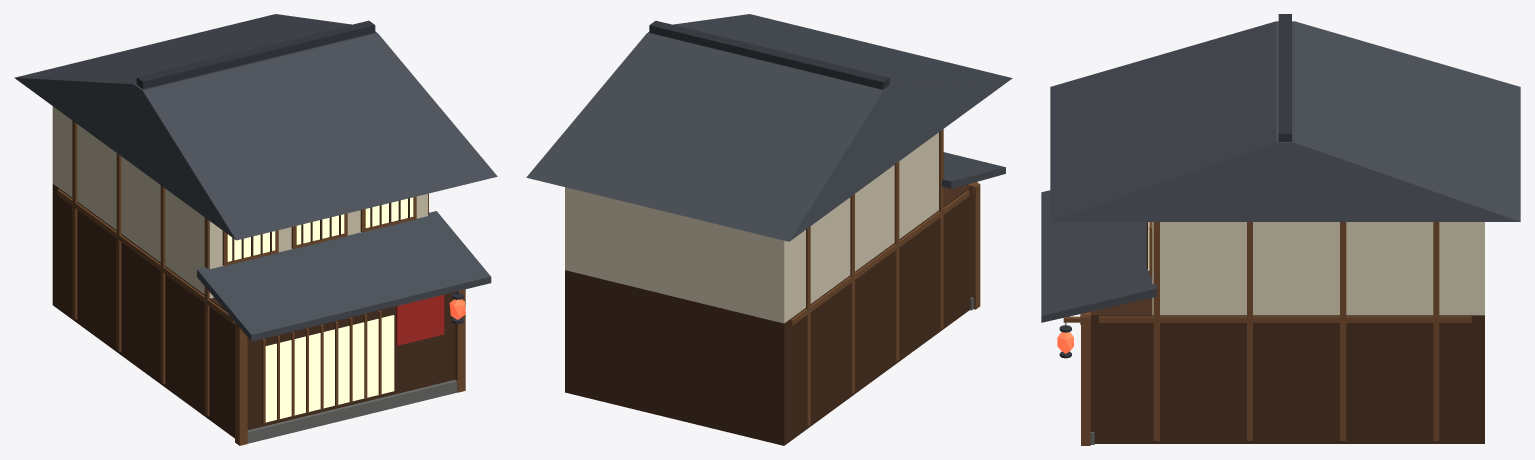
Rendered from machiya_2.glb.
3 renders of one model, left to right at view 1: azimuth 30°, elevation 25°; view 2: azimuth 150°, elevation 25°; view 3: azimuth 270°, elevation 25°, orthographic. The views are drawn at different scales.
Parts seen in each view (by area): view 1: machiya_2; view 2: machiya_2; view 3: machiya_2.
Boxes of the visible parts, left/top/right/bottom form: machiya_2: left=14, top=14, right=497, bottom=445; machiya_2: left=526, top=14, right=1012, bottom=445; machiya_2: left=1041, top=14, right=1520, bottom=445.
Bounding box in the file's own units: 7.2 × 7.8 × 10.8.
